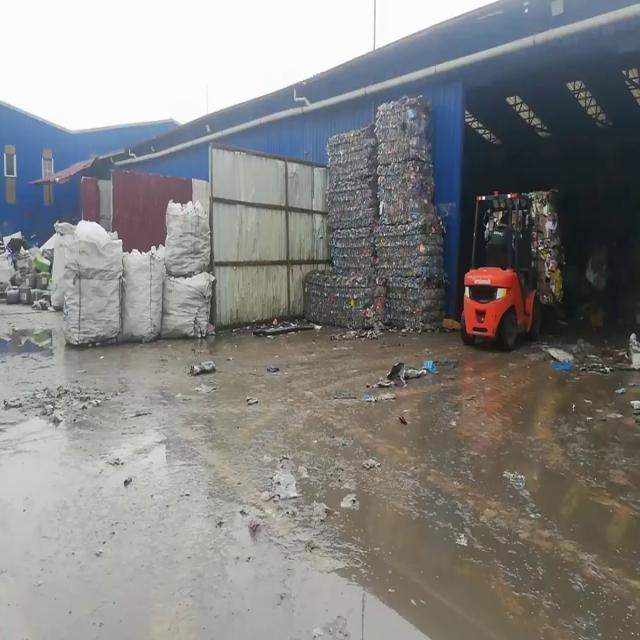forklift: (463, 194, 538, 344)
